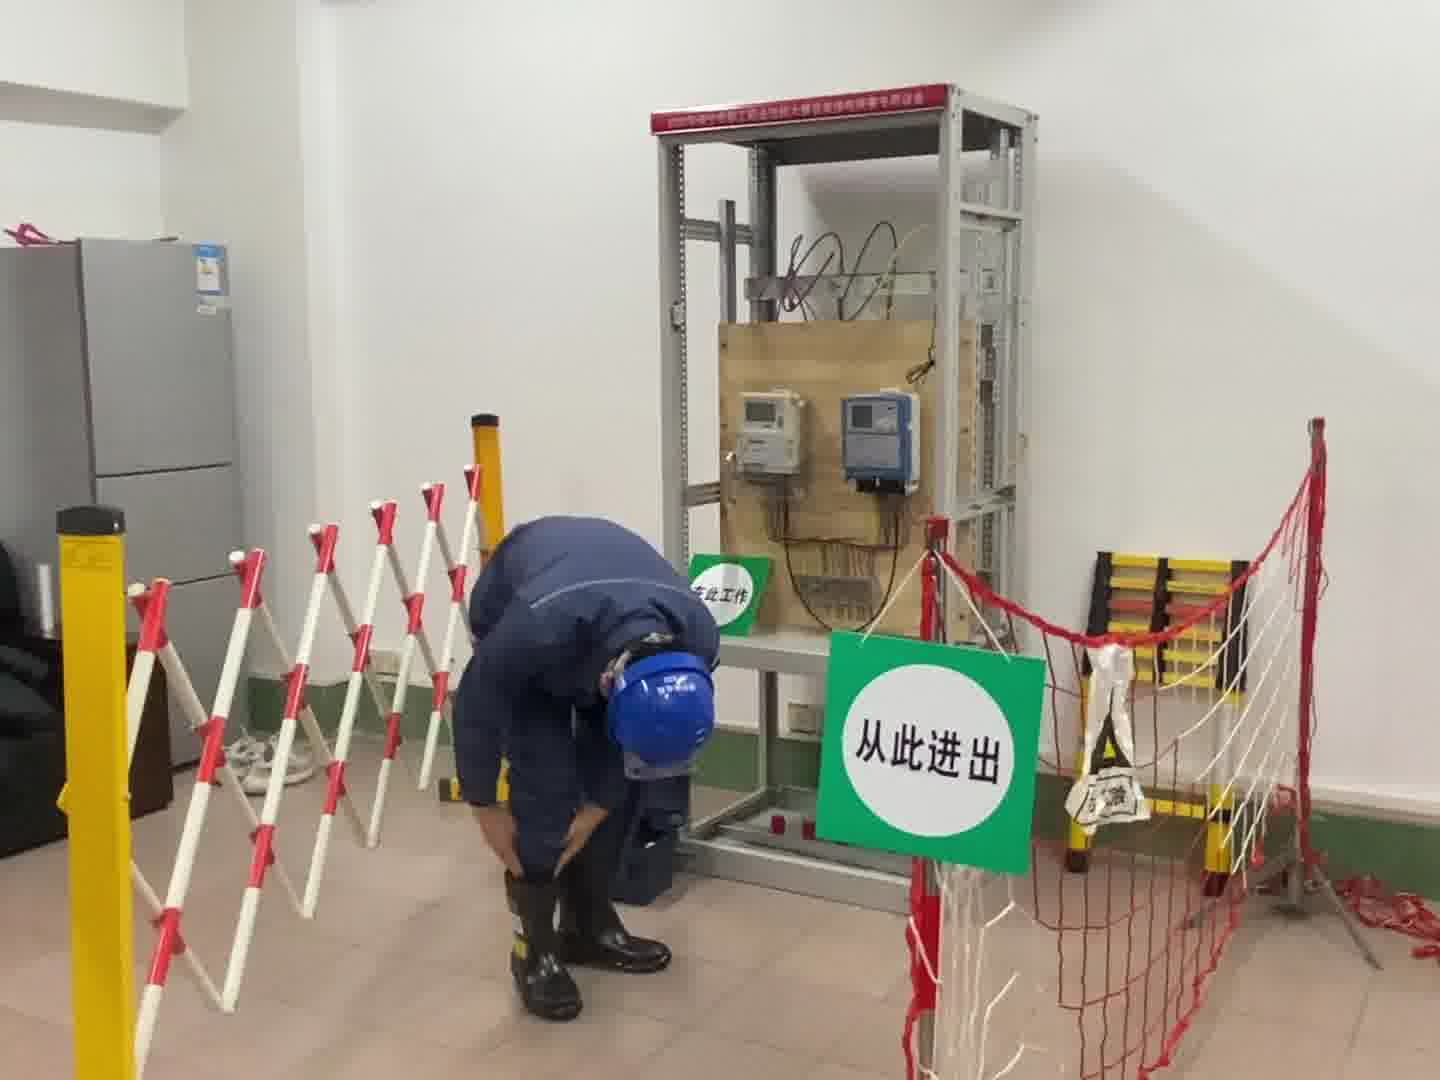downsuit: (502, 678, 638, 877)
halt: (837, 660, 1026, 854), (606, 648, 719, 784)
hand: (556, 802, 609, 876), (476, 801, 524, 876)
intosign: (808, 619, 1044, 877)
person: (452, 507, 723, 1007)
shoe: (488, 862, 586, 1027), (557, 858, 680, 981)
upsuit: (451, 511, 723, 803)
worksign: (680, 543, 773, 644)
